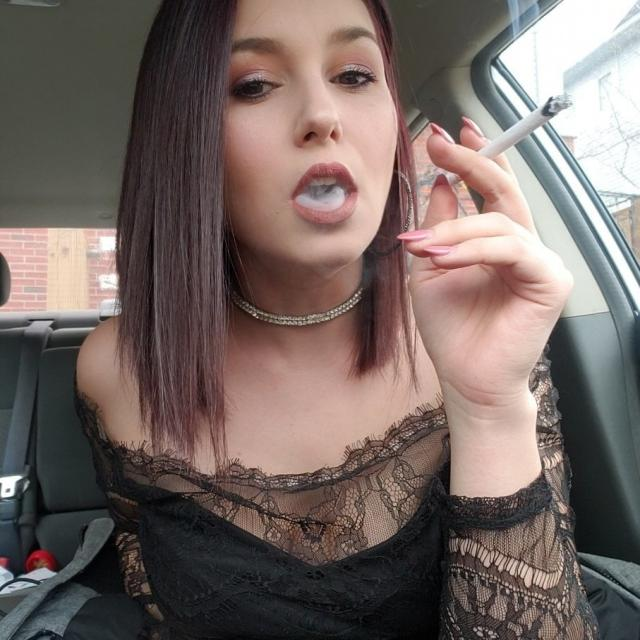smoke: (442, 92, 578, 192)
